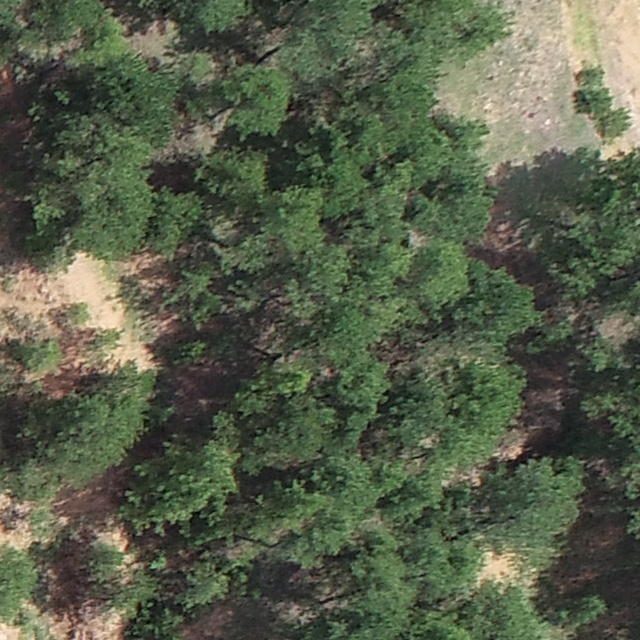unhealthy: (184, 601, 239, 639)
